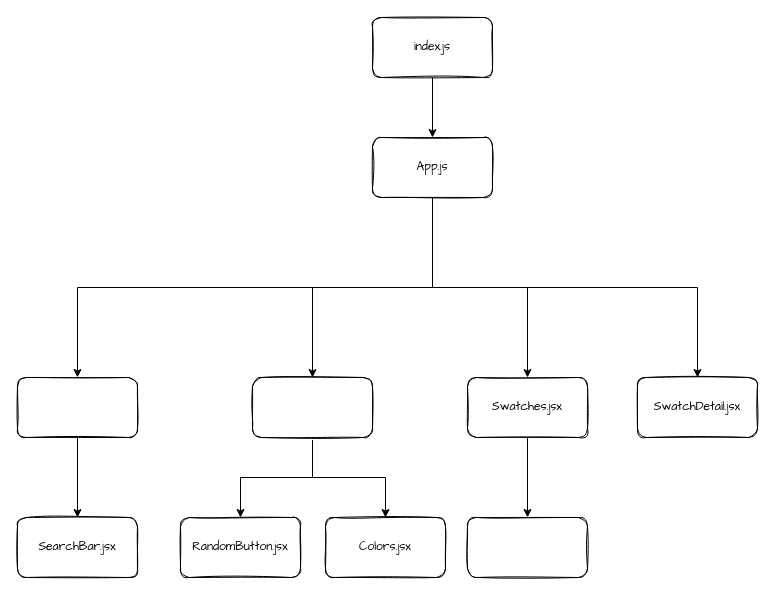
This 775x595 diagram has some shape labels left out. Here are the shapes that lost their labels. From the top down, the box of each, then its label:
(16, 376, 138, 438): Header.jsx
(252, 376, 372, 438): Sidebar.jsx
(466, 516, 588, 578): SwatchCard.jsx
